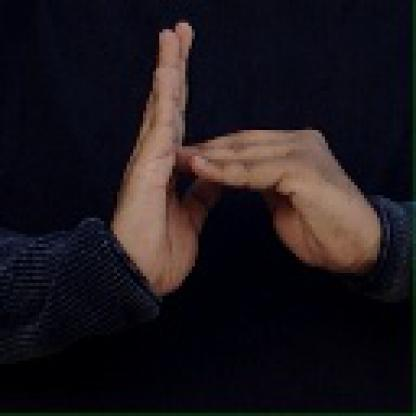Z: (112, 15, 346, 265)
